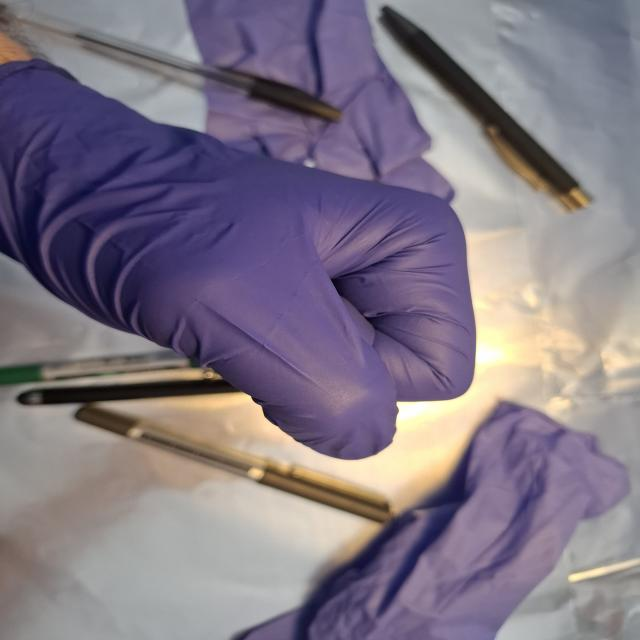glove_on: (0, 50, 486, 462)
